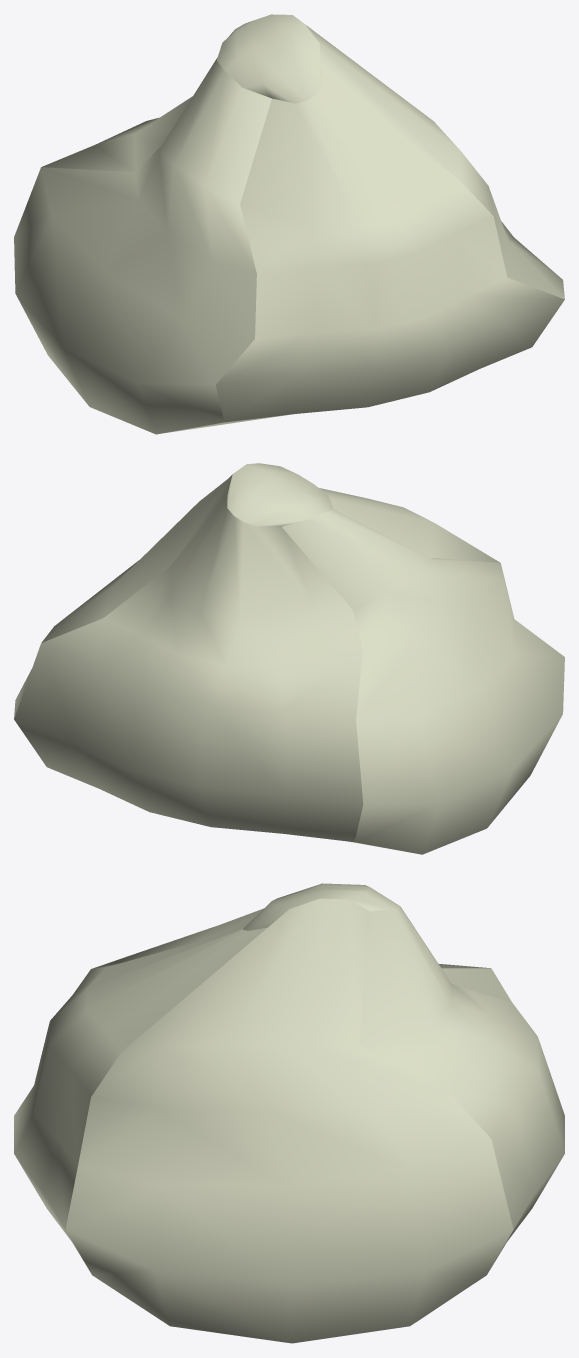
File: Petit_rochet_1.fbx
3 renders of one model, top to bottom at view 1: azimuth 30°, elevation 25°; view 2: azimuth 150°, elevation 25°; view 3: azimuth 270°, elevation 25°, orthographic. The views are drawn at different scales.
Parts seen in each view (by area): view 1: pCube40; view 2: pCube40; view 3: pCube40.
Boxes of the visible parts, x1,y1,x2,y2 form: pCube40: [14, 14, 564, 434]; pCube40: [14, 463, 564, 854]; pCube40: [14, 883, 564, 1343].
Size of the model in its own units: 201 by 135 by 191.
